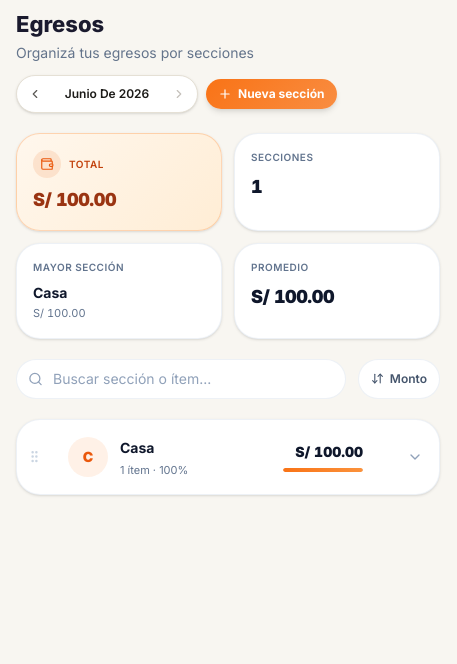
should PresupuestoView › should save inline add item
Click the button with test id "categoria-header" at (88, 457), box left=52, top=420, right=439, bottom=494
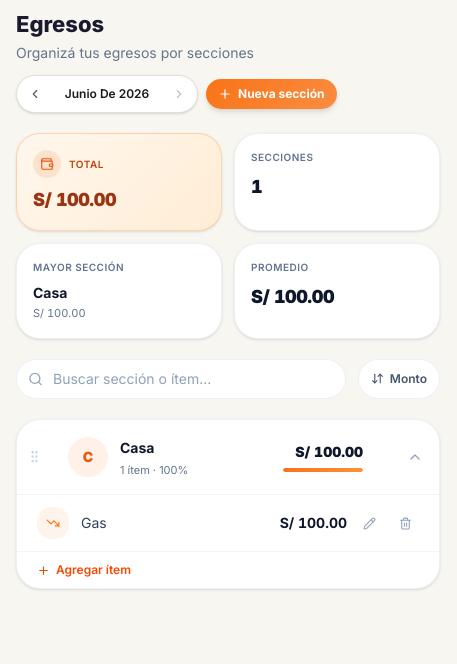
Click the button with test id "add-item-button" at (84, 570), box left=37, top=562, right=131, bottom=578
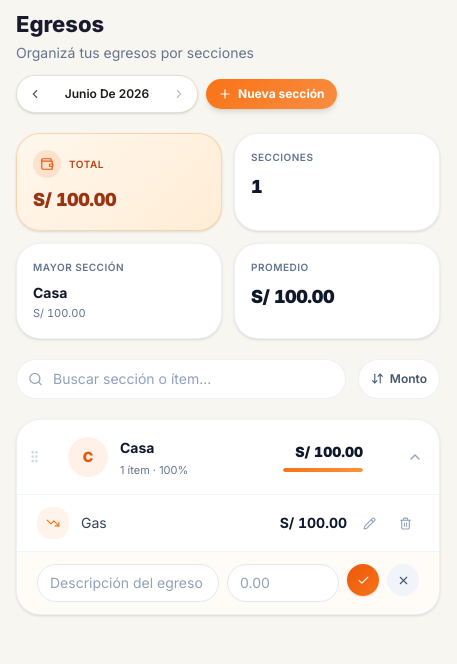
Type "Agua" into the field with test id "inline-descripcion-input" at (128, 583), box left=37, top=564, right=219, bottom=602
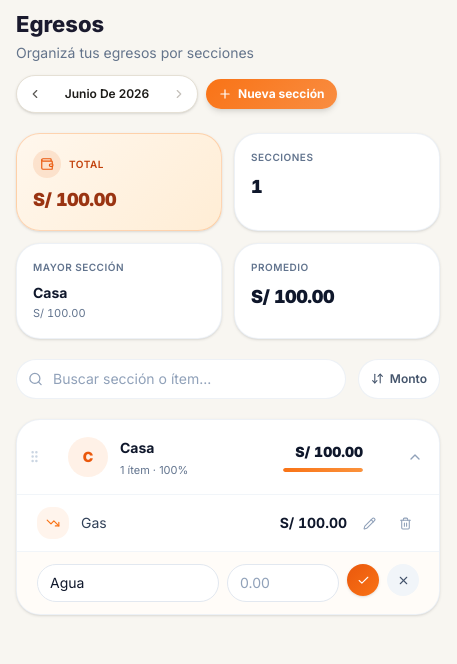
Type "150" into the field with test id "inline-monto-input" at (283, 583), box left=227, top=564, right=339, bottom=602
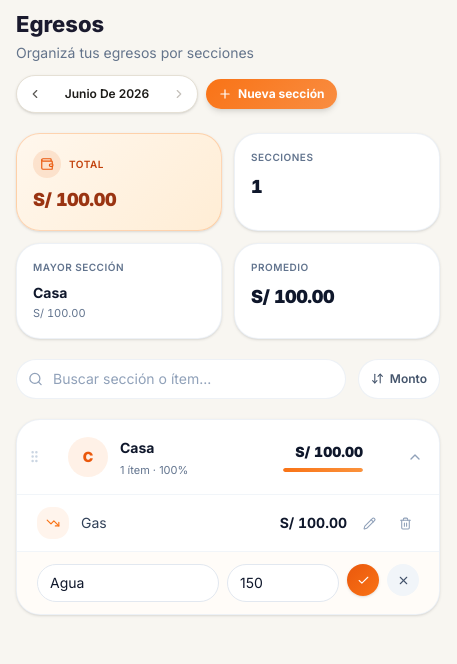
Click the button with test id "inline-save-button" at (363, 580), box left=347, top=564, right=379, bottom=596
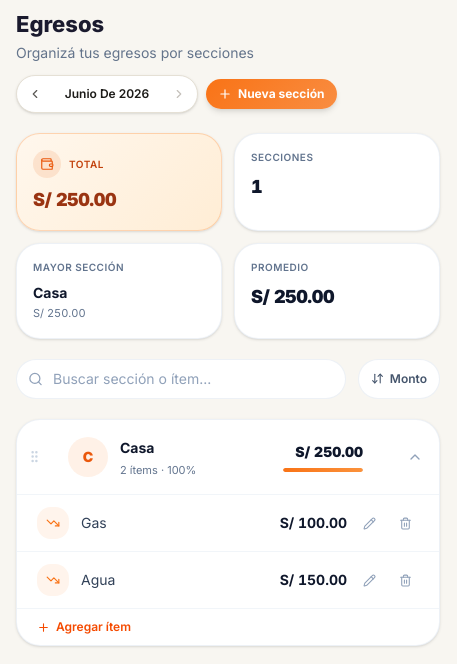
Check: the text "Agua" is shown, box left=81, top=570, right=115, bottom=590
